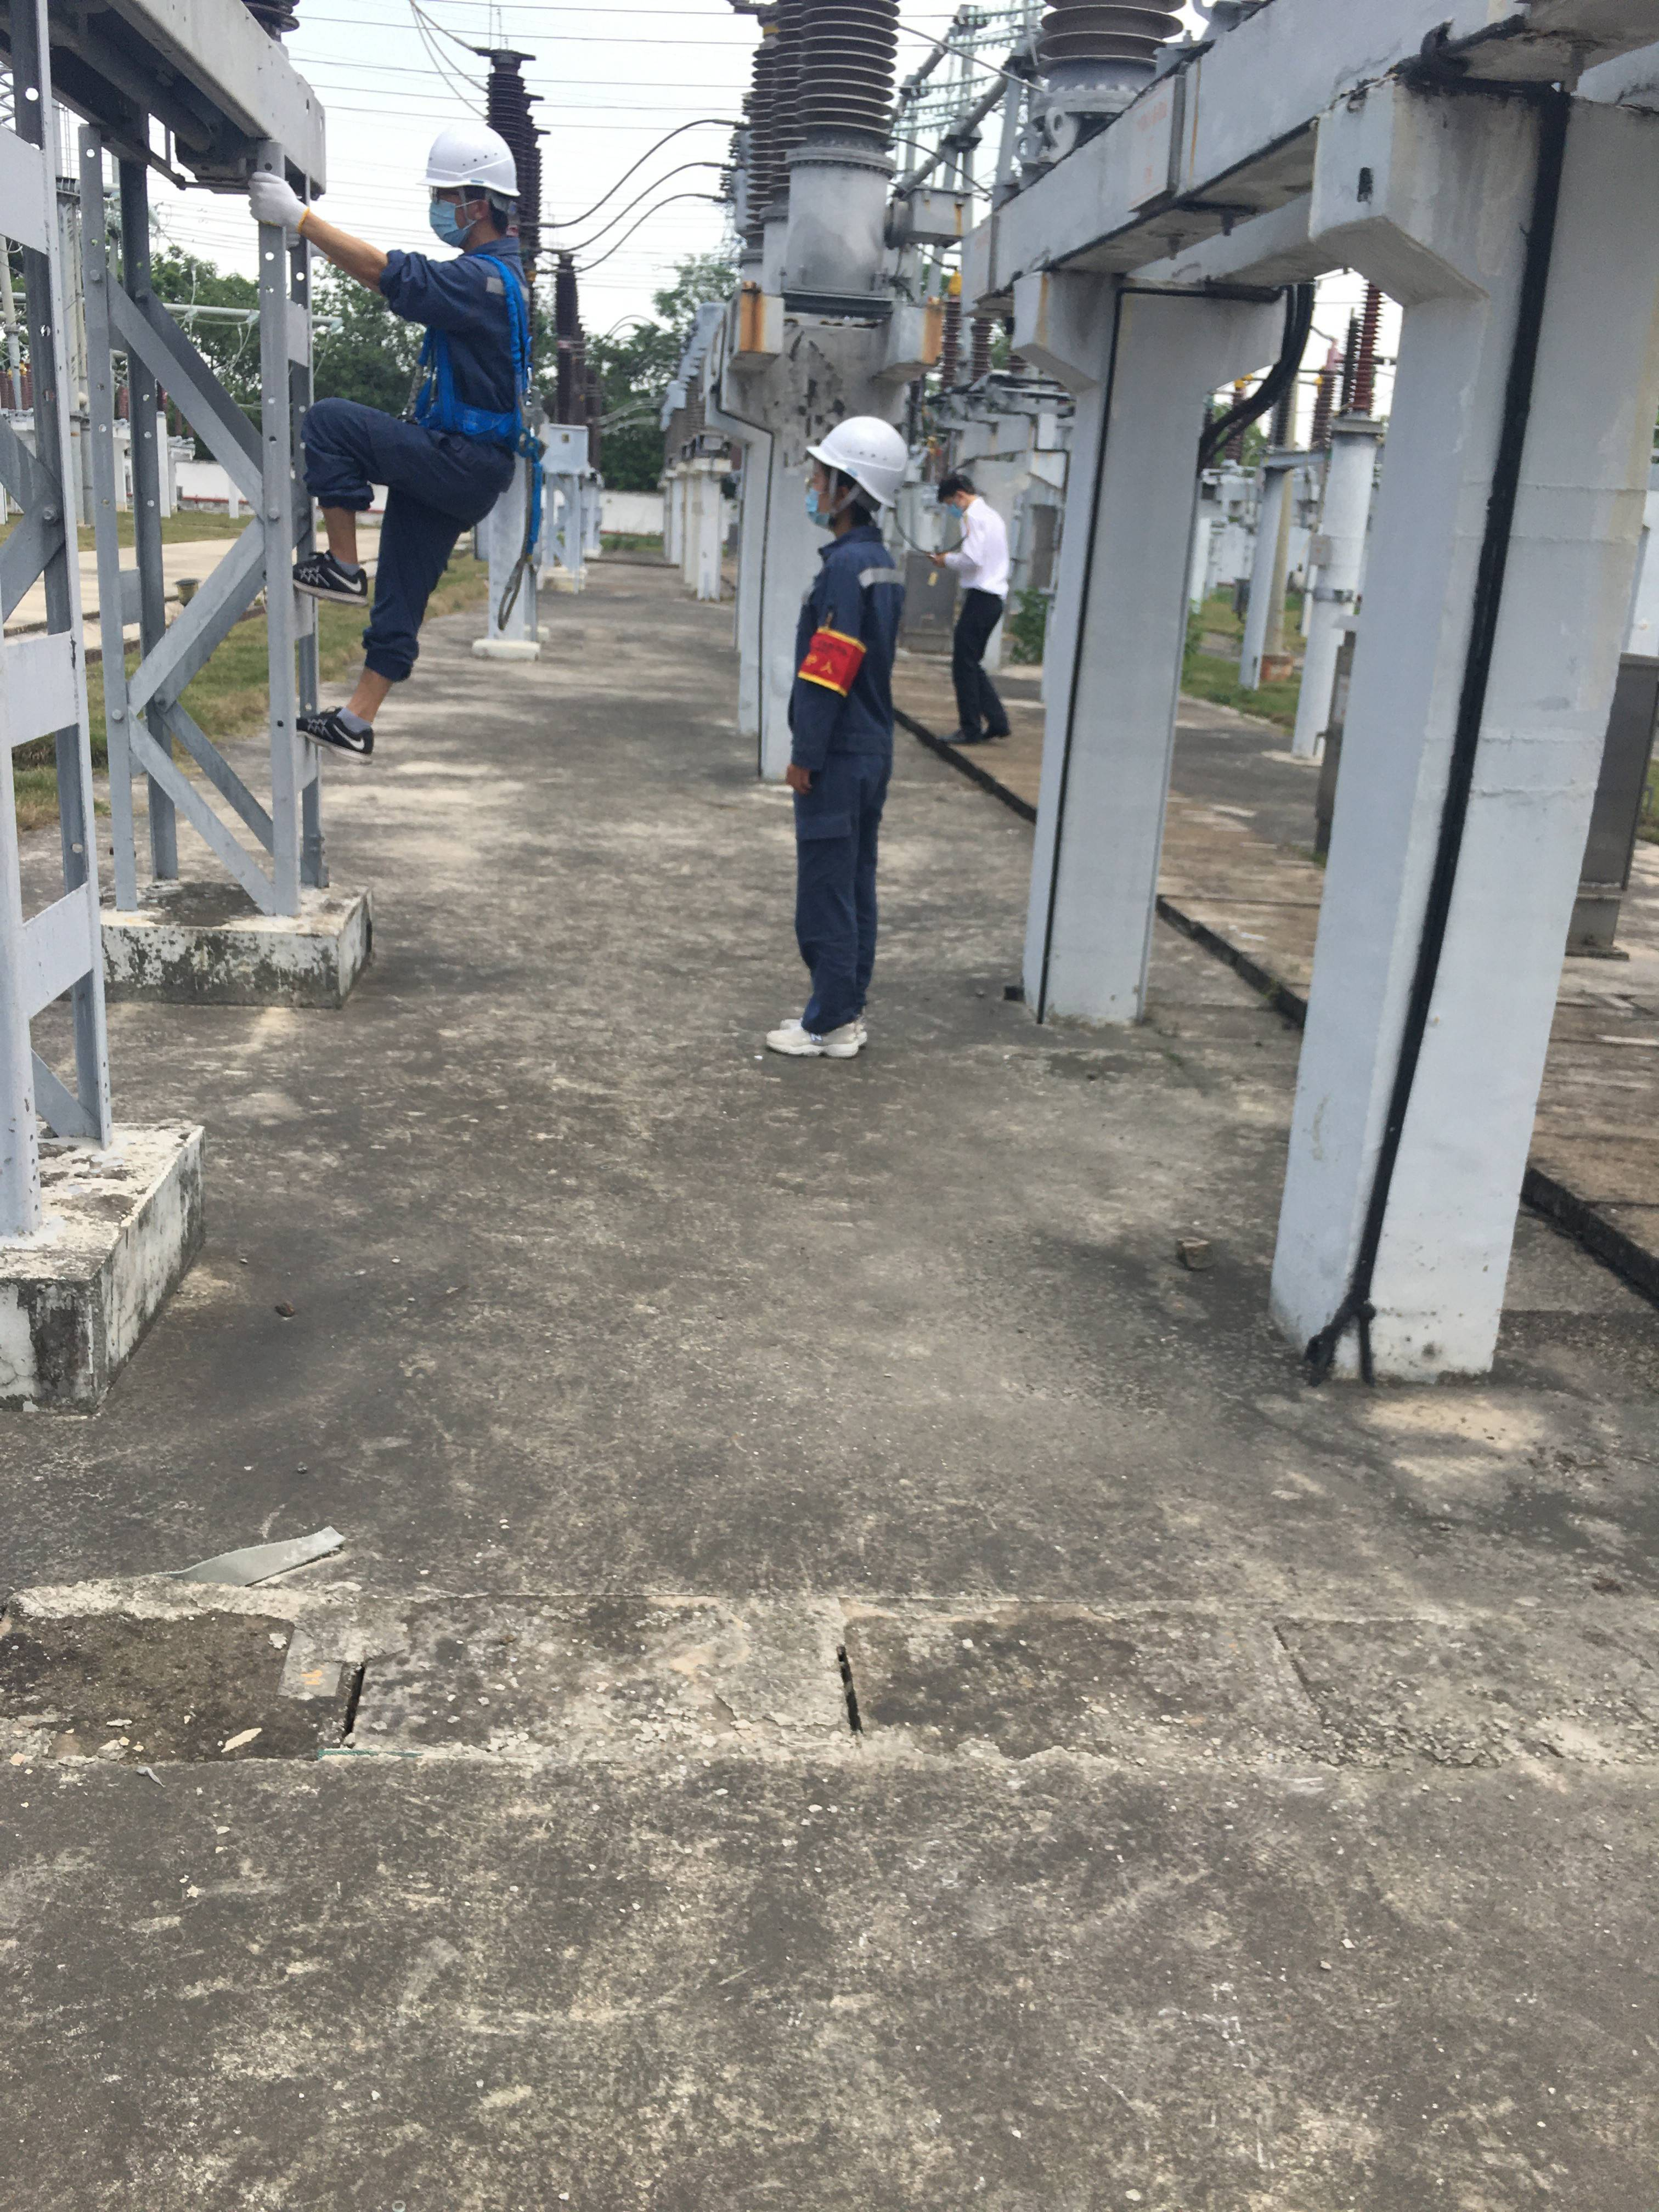downcloth: (945, 594, 1012, 737)
downsuit: (291, 394, 535, 674)
upcloth: (945, 502, 1014, 594)
upsuit: (383, 244, 577, 484), (763, 751, 906, 1026), (781, 524, 910, 772)
wrongbottom: (314, 486, 369, 571), (343, 653, 401, 735)
wrongtop: (272, 190, 415, 291)
